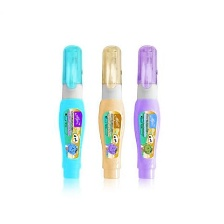correction_fluid: (55, 42, 87, 181), (95, 43, 127, 180), (131, 41, 161, 181)
